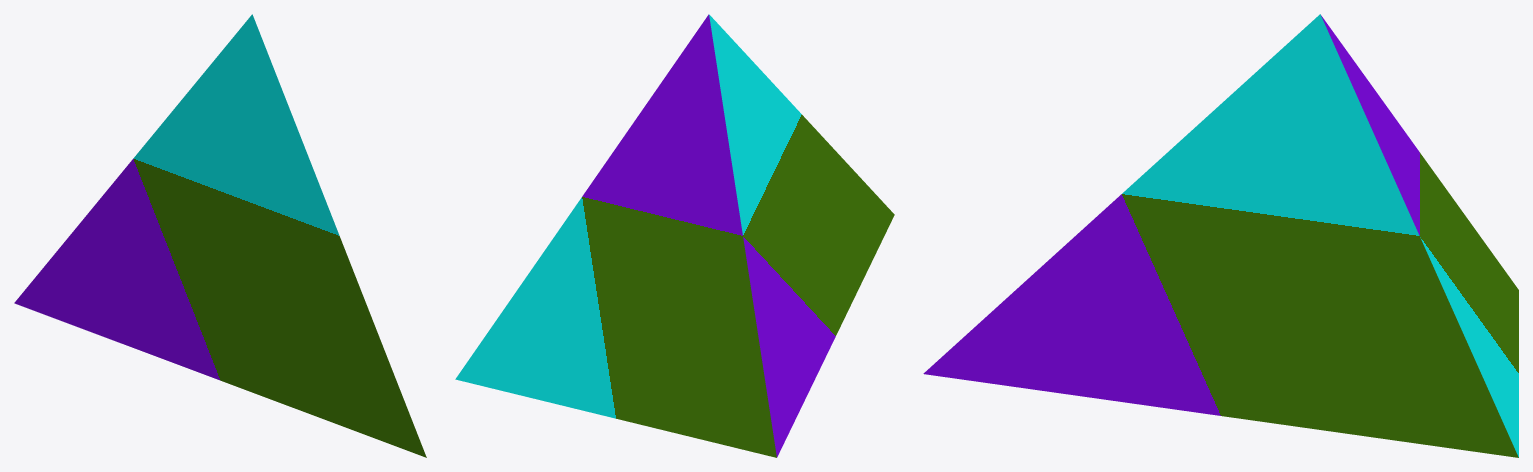
File: static-preview.glb
3 views of the same model, side by side, from view 1: azimuth 30°, elevation 25°; view 2: azimuth 150°, elevation 25°; view 3: azimuth 270°, elevation 25° (orthographic). The views are drawn at different scales.
Bounding box in the file's own units: 1 × 1 × 1.5.
1 material, 1 textured.
